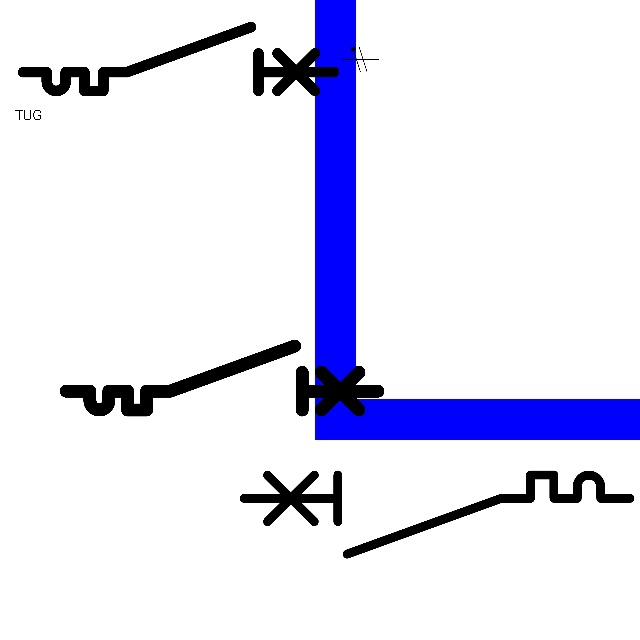interruptor_termomagnetico: (234, 465, 640, 564), (58, 338, 385, 418), (15, 19, 342, 99)
